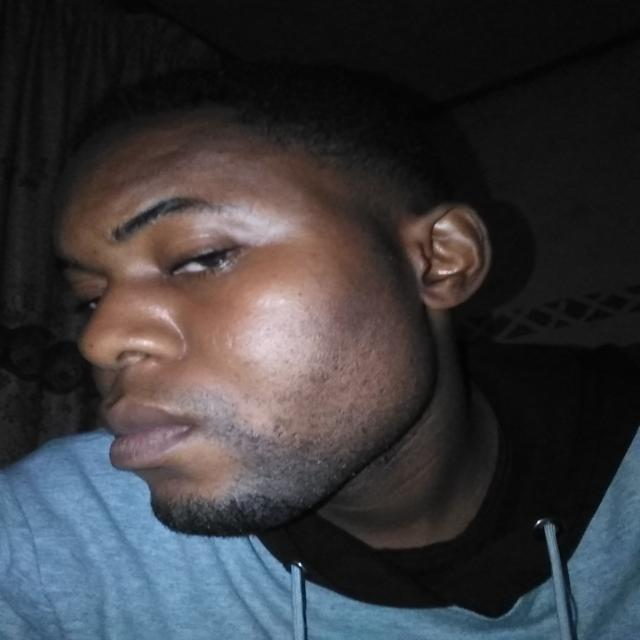Englarged-Pores: (312, 339, 418, 426), (350, 272, 426, 336), (252, 401, 312, 445)
